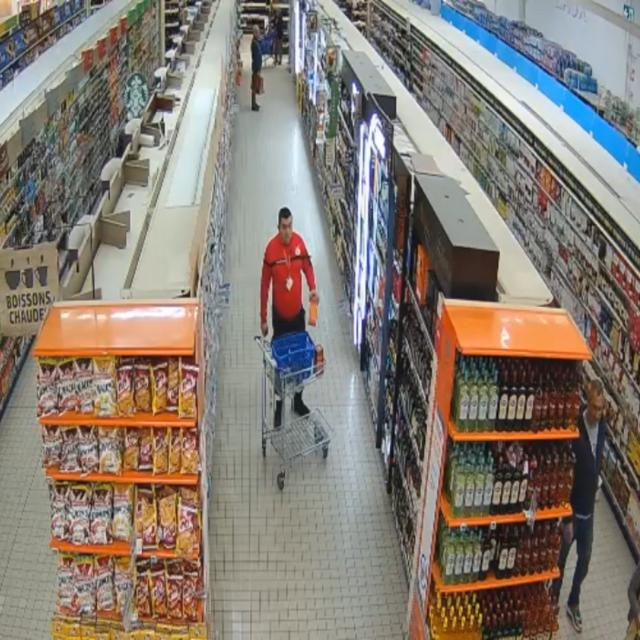article: (308, 294, 318, 327)
bags: (257, 74, 265, 94)
hands: (563, 522, 573, 545), (309, 290, 319, 303), (261, 322, 268, 337)
person: (554, 380, 605, 632), (261, 208, 317, 338), (251, 26, 262, 111), (628, 564, 639, 638)
